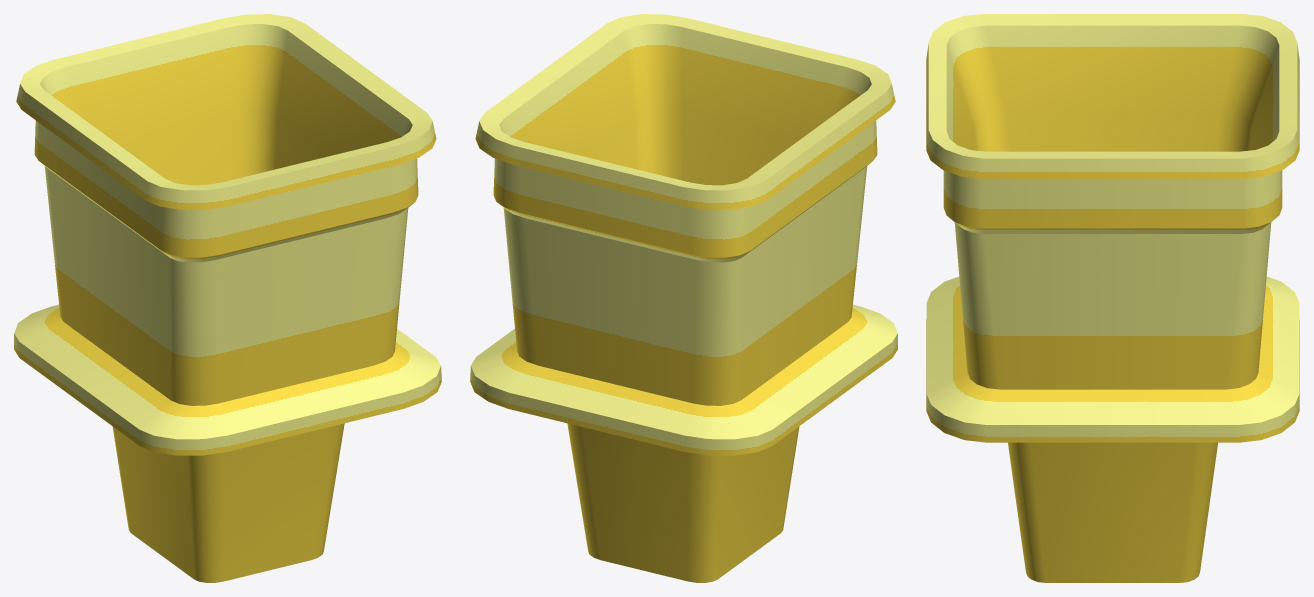
File: separadorAmr.fbx
3 renders of one model, left to right at view 1: azimuth 30°, elevation 25°; view 2: azimuth 150°, elevation 25°; view 3: azimuth 270°, elevation 25°, orthographic. The views are drawn at different scales.
Parts seen in each view (by area): view 1: separadorAmr; view 2: separadorAmr; view 3: separadorAmr.
Boxes of the visible parts, x1,y1,x2,y2 form: separadorAmr: [14, 14, 441, 582]; separadorAmr: [470, 14, 897, 582]; separadorAmr: [926, 14, 1299, 582].
Size of the model in its own units: 265 by 375 by 273.
